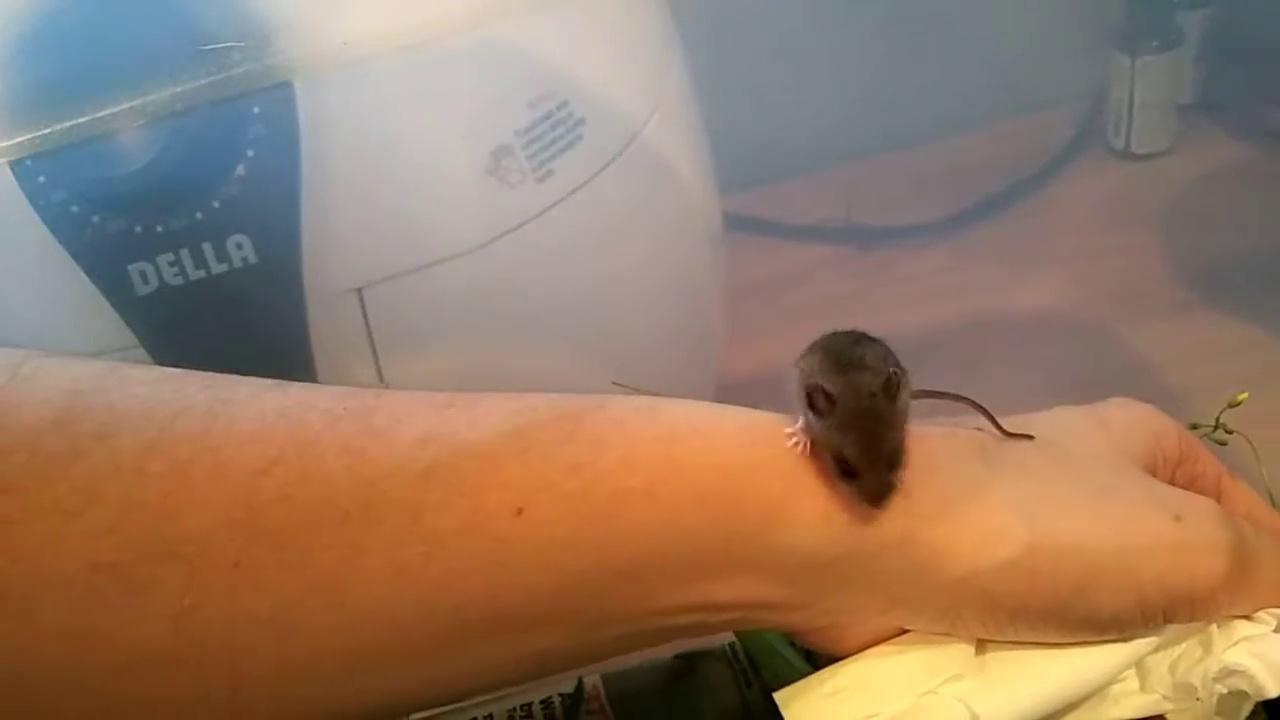rat: (787, 330, 1036, 511)
